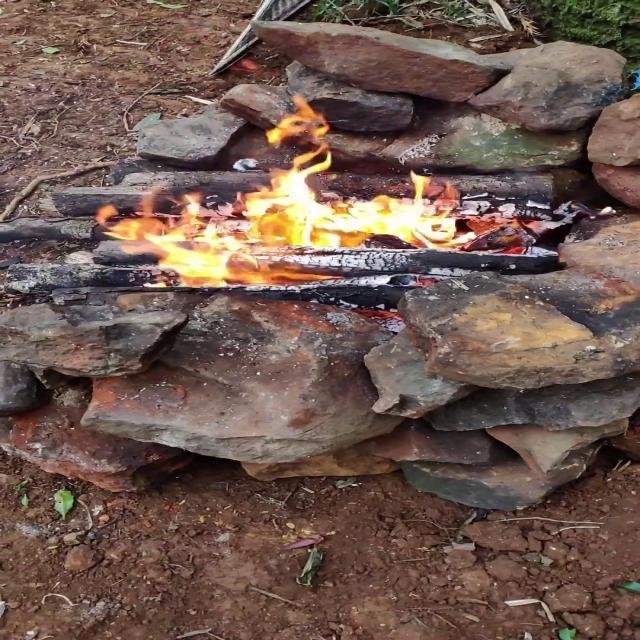Fire: (110, 123, 500, 294)
